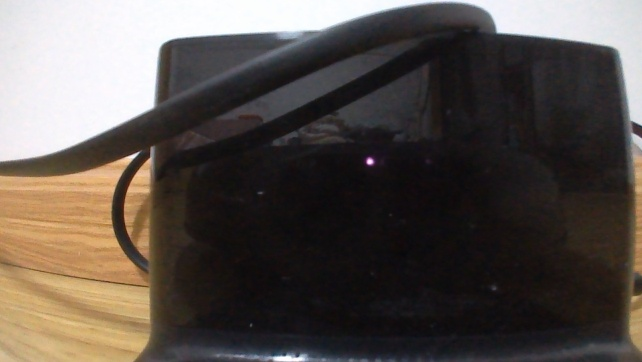wire: (0, 0, 498, 181), (110, 145, 151, 275), (626, 269, 641, 298), (626, 117, 641, 139)
